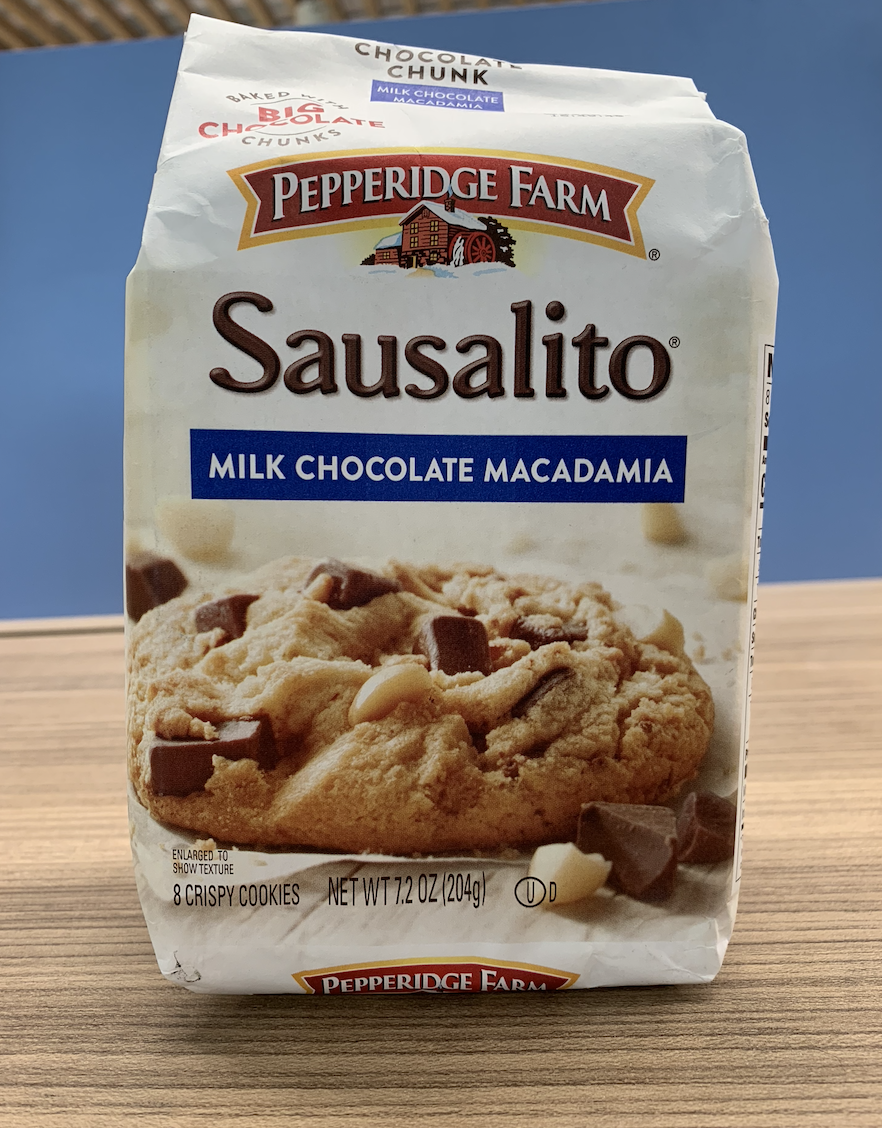cookies_150g: (174, 91, 715, 970)
